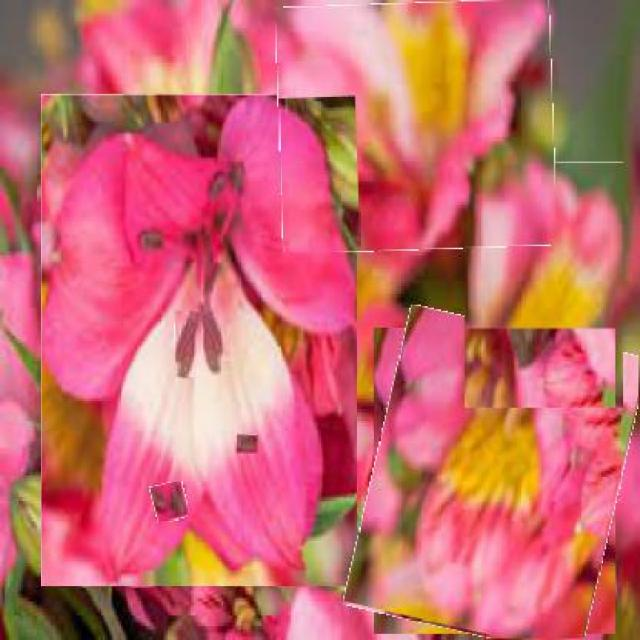Flower: (40, 94, 358, 588), (359, 317, 633, 638), (278, 1, 556, 252), (465, 162, 625, 409), (175, 311, 201, 378), (152, 482, 189, 522), (236, 434, 259, 454)
